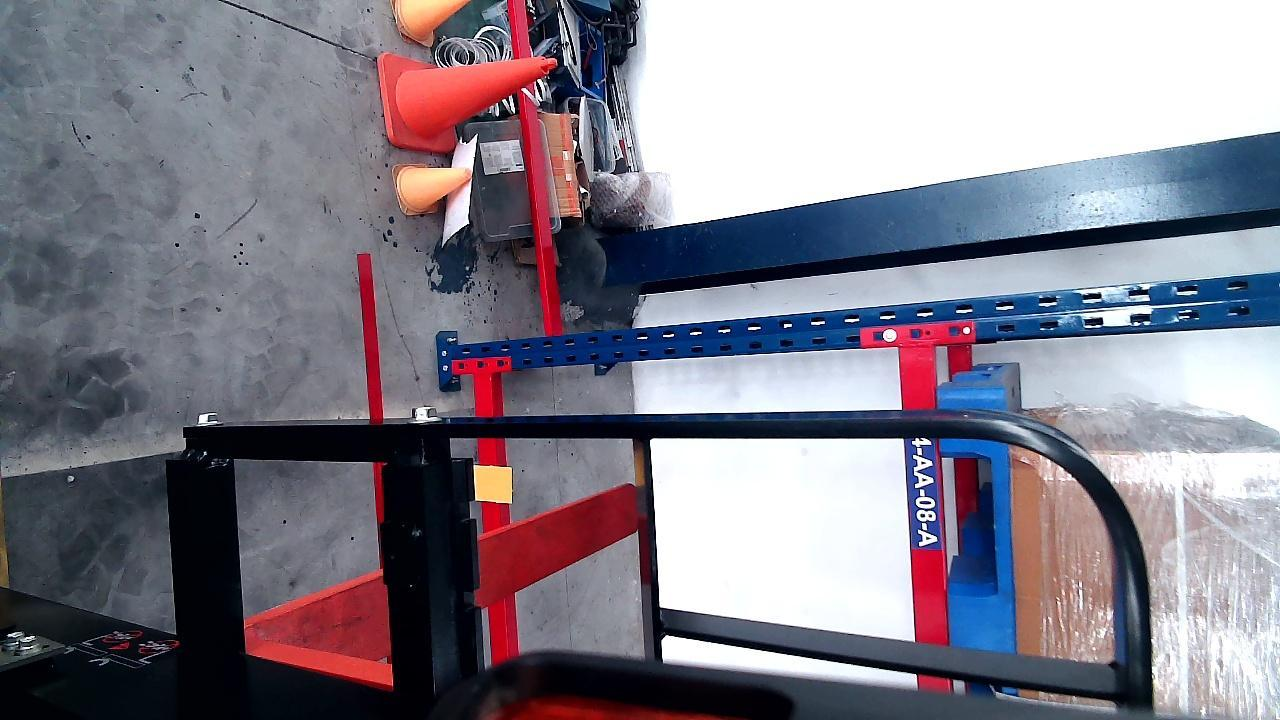red_line: (355, 252, 386, 418)
